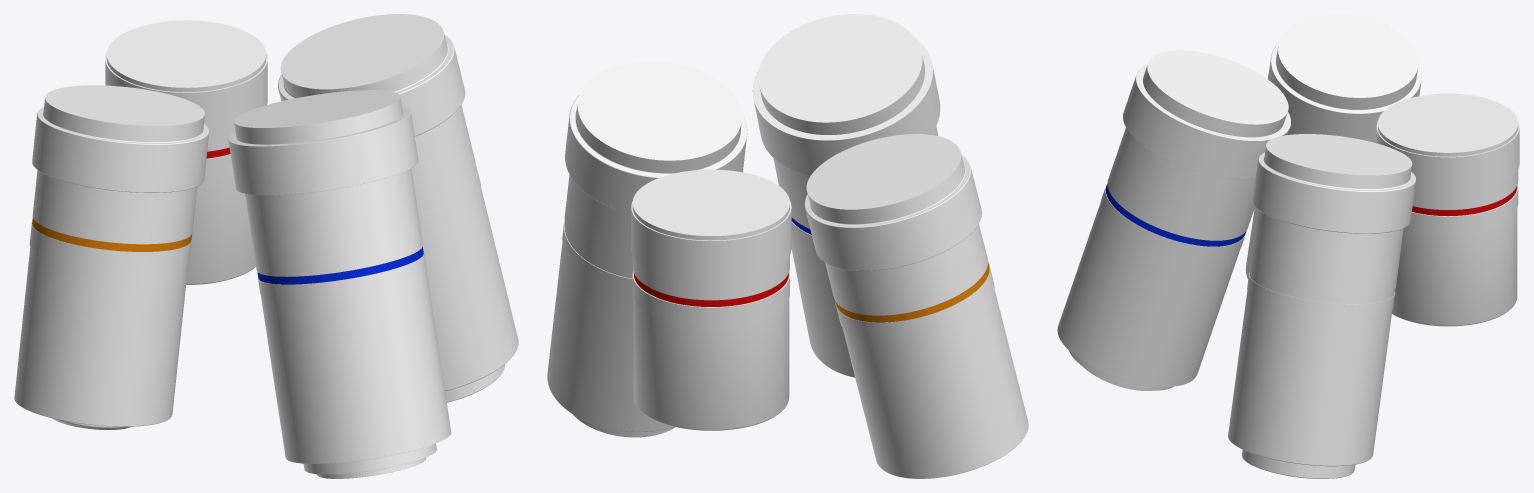
File: objective1.gltf
3 renders of one model, left to right at view 1: azimuth 30°, elevation 25°; view 2: azimuth 150°, elevation 25°; view 3: azimuth 270°, elevation 25°, orthographic. The views are drawn at different scales.
Visible parts, largest first — view 1: 40x, 10x, 100x, 4x; view 2: 10x, 4x, 100x, 40x; view 3: 100x, 40x, 4x, 10x.
Boxes of the visible parts, x1,y1,x2,y2 form: 40x: (228,90,451,478); 10x: (14,85,209,429); 100x: (278,14,518,402); 4x: (105,20,267,284); 10x: (804,134,1028,478); 4x: (631,169,791,430); 100x: (547,61,747,437); 40x: (752,14,940,377); 100x: (1228,134,1416,478); 40x: (1057,50,1290,390); 4x: (1376,93,1519,326); 10x: (1245,14,1421,279).
Size of the model in its own units: 0.0651 by 0.0498 by 0.0624.
